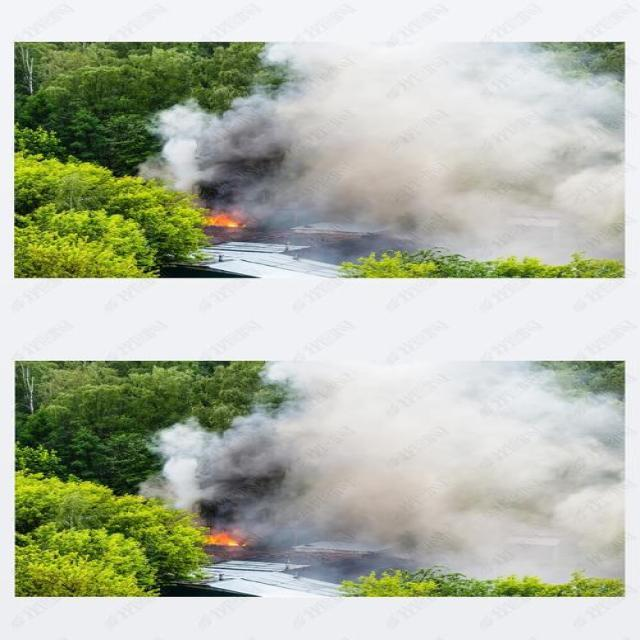Smoke: (143, 41, 628, 266), (152, 362, 623, 585)
